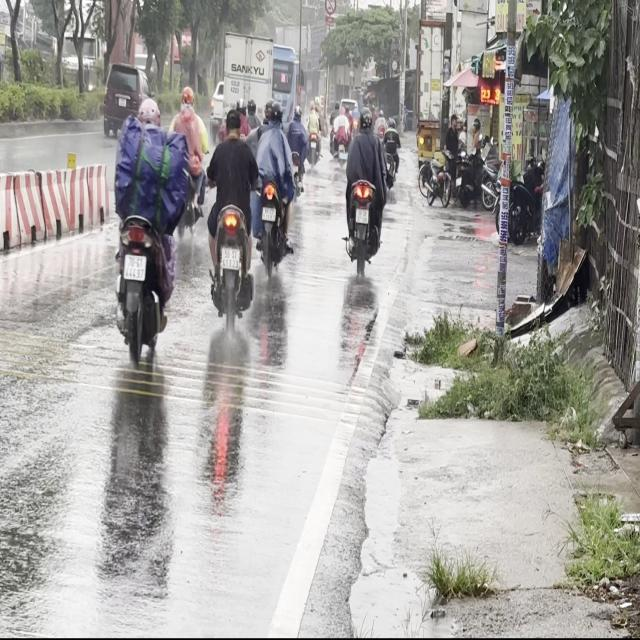helmet: (137, 95, 160, 128), (360, 107, 374, 133), (270, 97, 282, 123)
licenseplate: (109, 89, 180, 361), (204, 99, 257, 322), (252, 95, 295, 278), (342, 107, 386, 276)
motorcyclist: (223, 105, 241, 136)
nohelmet: (124, 253, 146, 280), (220, 246, 240, 269), (261, 206, 275, 220), (356, 209, 369, 224)
